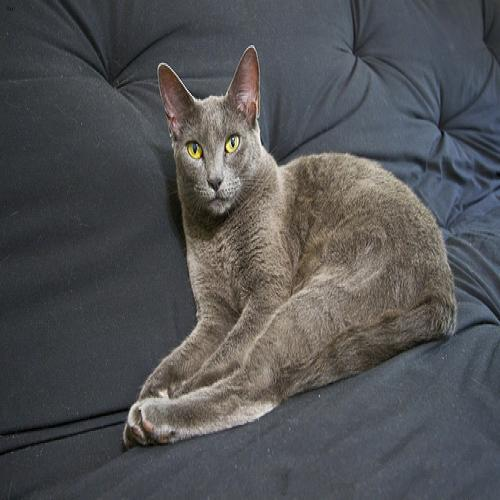rblue: (154, 49, 279, 225)
